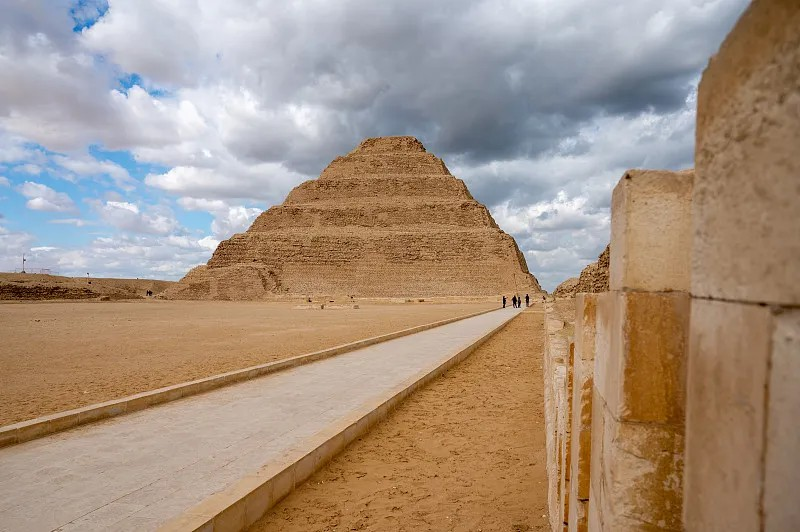Pyramid: (159, 136, 546, 298)
